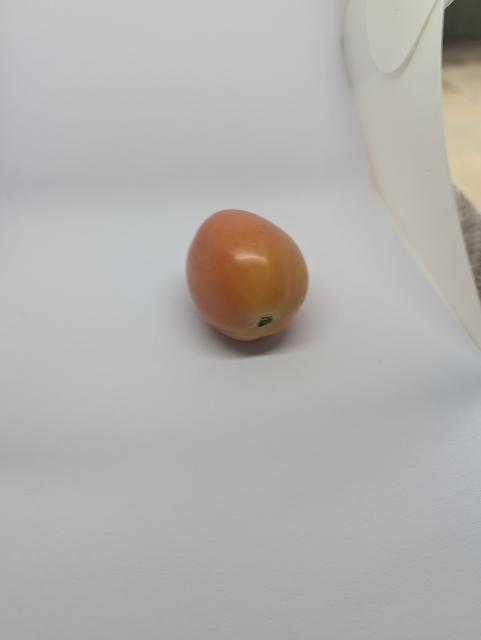turning: (181, 207, 313, 347)
